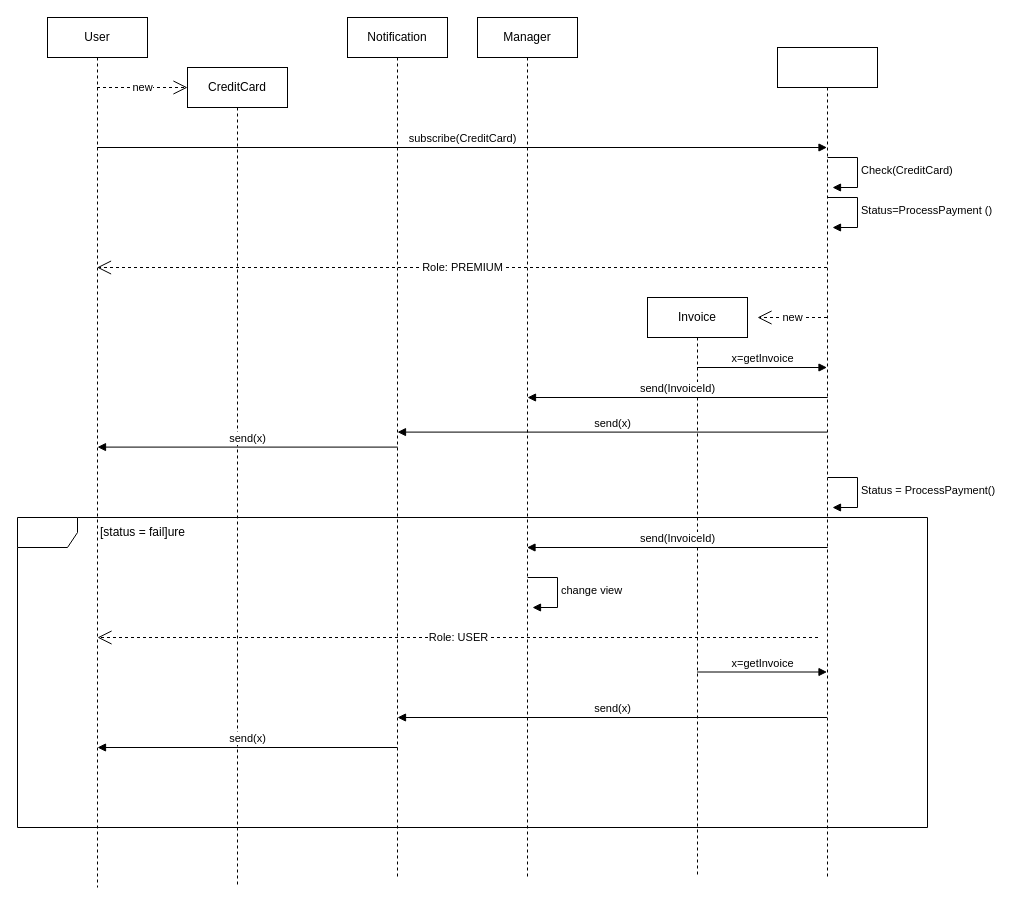
This 1013x905 diagram has some shape labels left out. Here are the shapes that lost their labels. From the top down, the box of each, then its label:
(776, 46, 878, 878): System
(16, 516, 928, 828): opt
